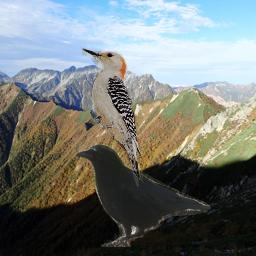Crow: (71, 141, 211, 247)
Woodpecker: (81, 42, 148, 187)
